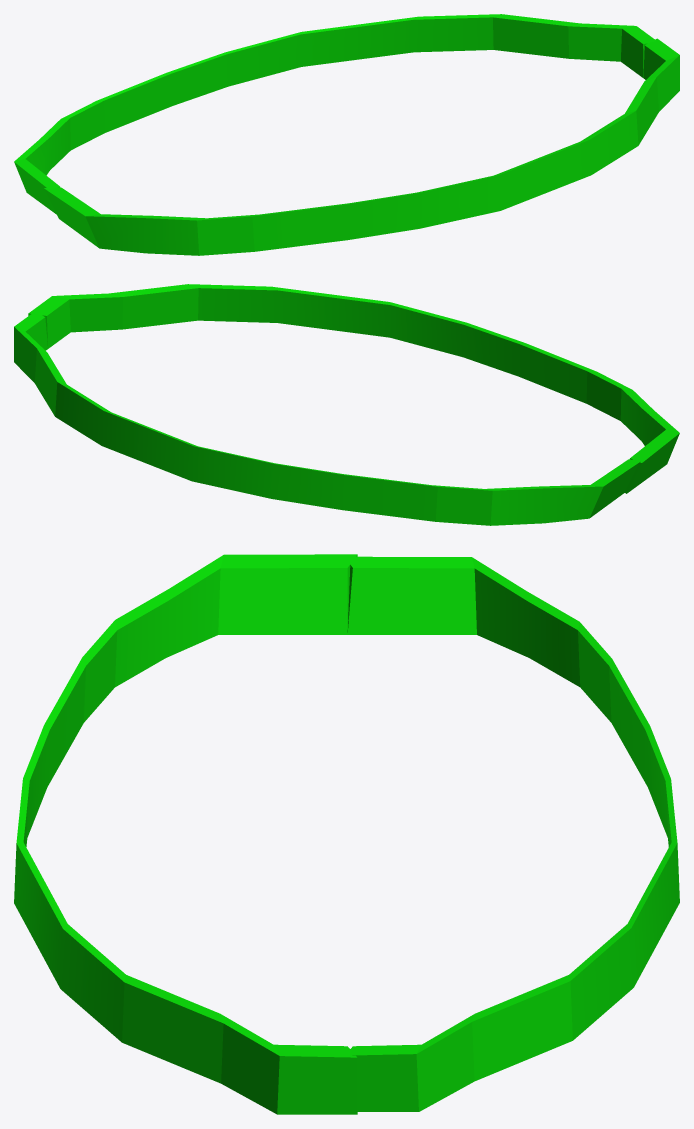
Rendered from Ship_Collider_Fence.fbx.
3 views of the same model, one above another, from view 1: azimuth 30°, elevation 25°; view 2: azimuth 150°, elevation 25°; view 3: azimuth 270°, elevation 25° (orthographic). The views are drawn at different scales.
Visible parts, largest first — view 1: Ship_Collider_Fence.001, Ship_Collider_Fence; view 2: Ship_Collider_Fence.001, Ship_Collider_Fence; view 3: Ship_Collider_Fence.001, Ship_Collider_Fence.
Part boxes in pixels (x1,y1,x2,y2): Ship_Collider_Fence.001: (44, 38, 679, 255); Ship_Collider_Fence: (14, 14, 656, 214); Ship_Collider_Fence.001: (28, 284, 679, 493); Ship_Collider_Fence: (14, 312, 640, 525); Ship_Collider_Fence.001: (14, 554, 357, 1114); Ship_Collider_Fence: (347, 556, 679, 1111).
Size of the model in its own units: 20.32 by 1.11 by 11.36.
